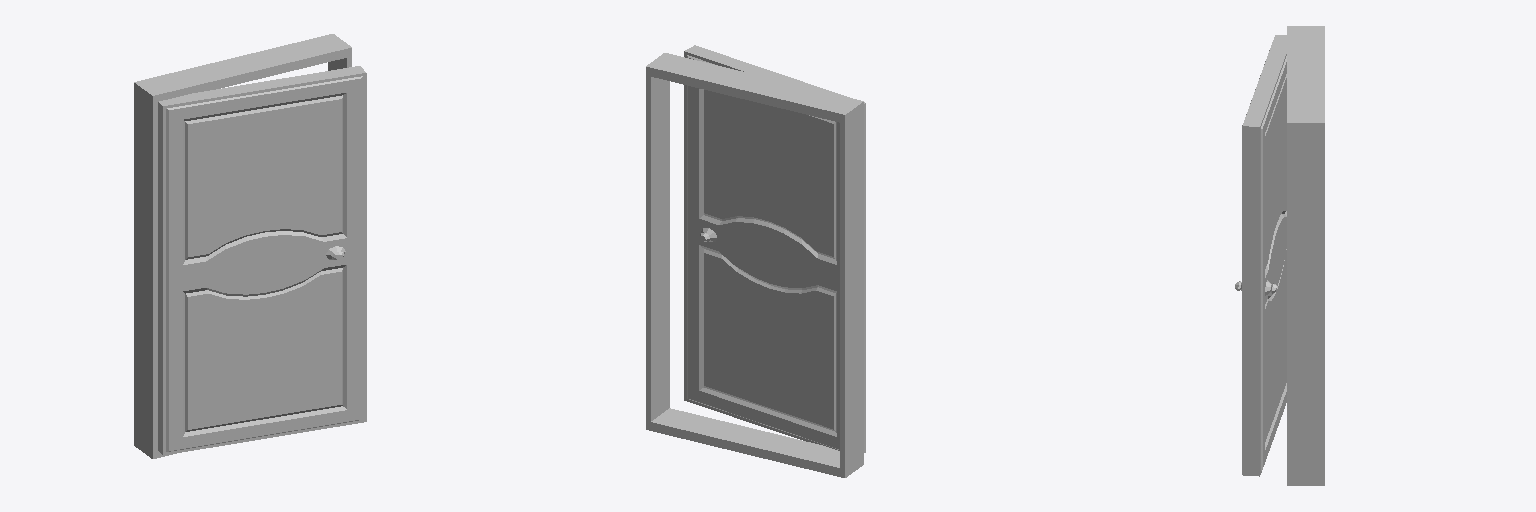
File: drzwiok_000033.obj
3 views of the same model, side by side, from view 1: azimuth 30°, elevation 25°; view 2: azimuth 150°, elevation 25°; view 3: azimuth 270°, elevation 25° (orthographic).
Parts seen in each view (by area): view 1: Door_4.001_Cube.001, Kostka; view 2: Door_4.001_Cube.001, Kostka; view 3: Kostka, Door_4.001_Cube.001.
Part boxes in pixels (x1,y1,x2,y2): Door_4.001_Cube.001: (158,66,366,455); Kostka: (134,34,351,458); Door_4.001_Cube.001: (684,45,865,452); Kostka: (646,53,863,477); Kostka: (1287,26,1324,485); Door_4.001_Cube.001: (1235,35,1286,476).
Bounding box in the file's own units: 0.7416 × 1.29 × 0.2892.